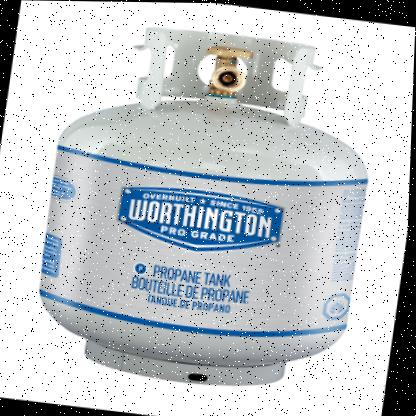gas-tank: (11, 1, 404, 412)
